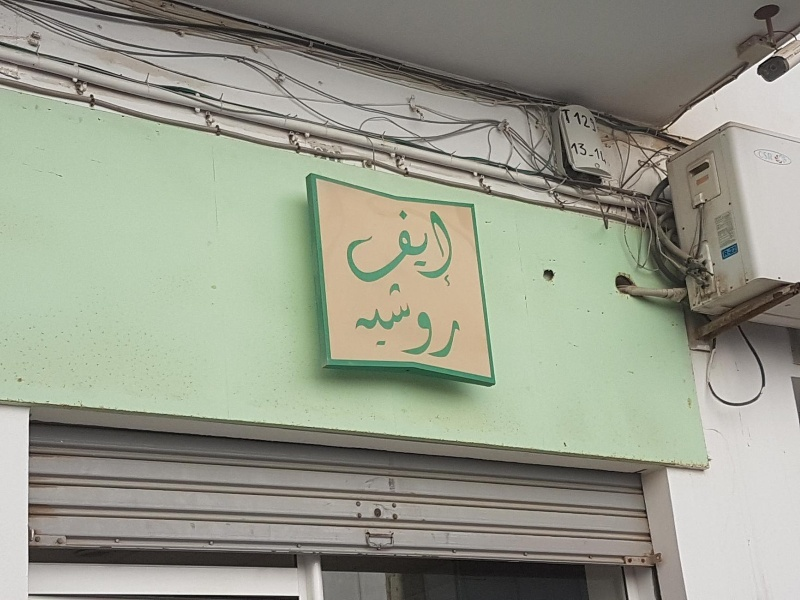text: (353, 194, 368, 286), (369, 194, 384, 286), (385, 194, 400, 286), (401, 194, 416, 286), (417, 194, 432, 286), (433, 194, 448, 286), (449, 194, 464, 286), (369, 280, 384, 361), (385, 280, 400, 361), (401, 280, 416, 361), (417, 280, 432, 361), (433, 280, 448, 361), (449, 280, 464, 361), (354, 280, 368, 361), (465, 194, 473, 286), (345, 194, 352, 286), (577, 111, 592, 133), (465, 280, 469, 361), (593, 148, 607, 165), (561, 109, 576, 124), (722, 246, 736, 259), (577, 143, 588, 157), (759, 151, 768, 161), (593, 111, 597, 133), (587, 148, 592, 165), (571, 143, 576, 157), (573, 111, 576, 133), (769, 151, 774, 161)
